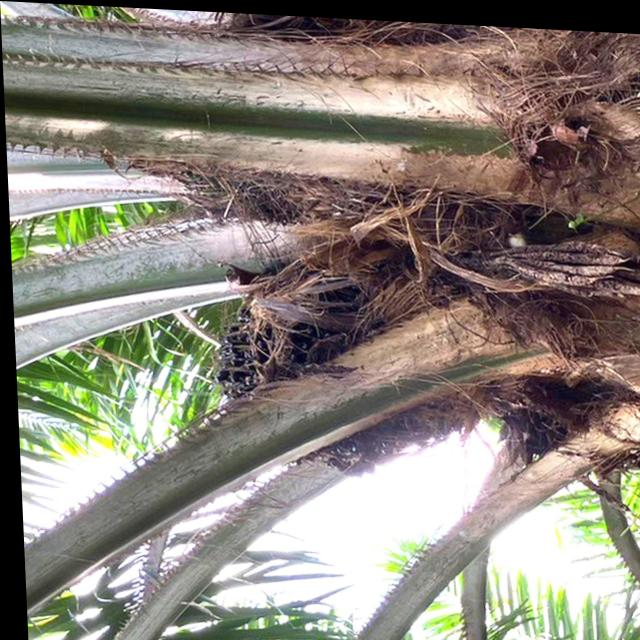unripe: (200, 263, 493, 484)
